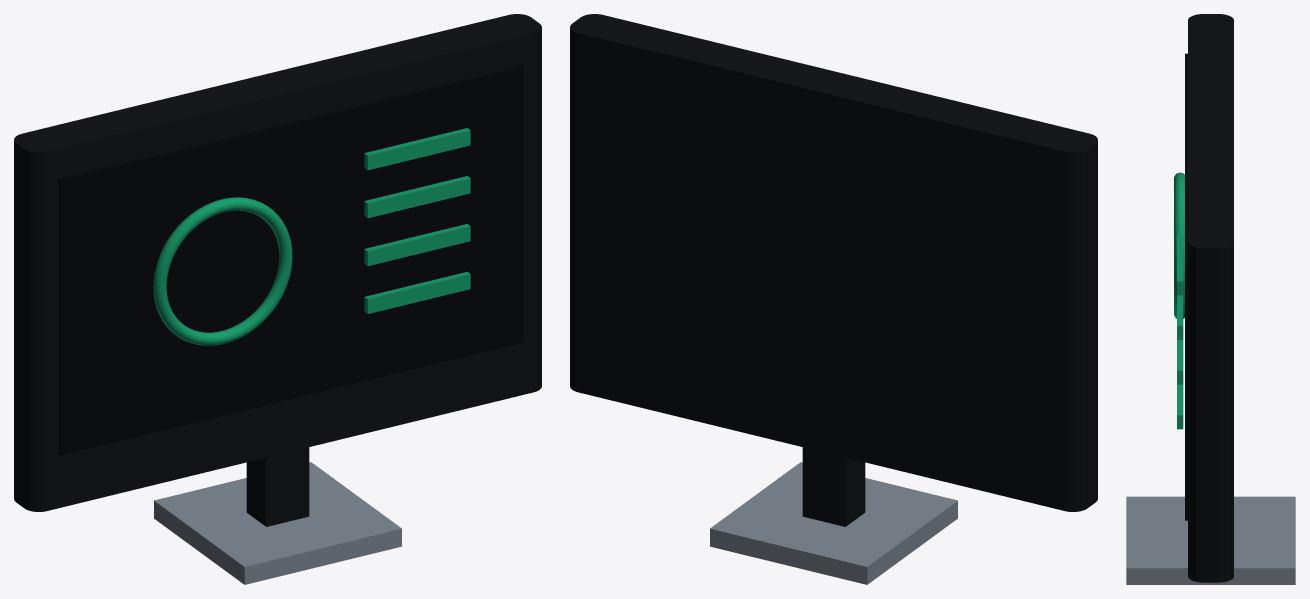
File: software_vision.glb
3 renders of one model, left to right at view 1: azimuth 30°, elevation 25°; view 2: azimuth 150°, elevation 25°; view 3: azimuth 270°, elevation 25°, orthographic. The views are drawn at different scales.
Visible parts, largest first — view 1: software; view 2: software; view 3: software.
Boxes of the visible parts, bbox=[...] form: software: bbox=[14, 14, 541, 584]; software: bbox=[570, 14, 1097, 584]; software: bbox=[1126, 14, 1295, 584].
Size of the model in its own units: 0.18 by 0.15 by 0.055.
